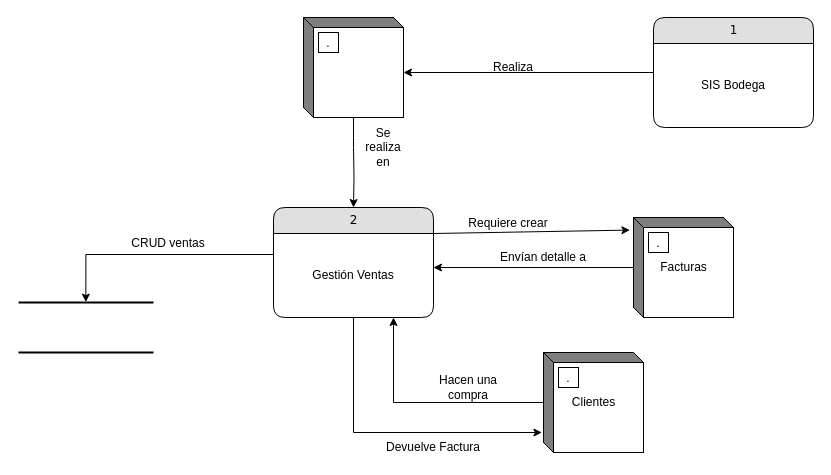
Image size: 831x475. Some labels were removed from this diagram. Here are the shapes that lost their labels. From the top down, the centre of each, then its label:
(353,67): Ventas
(85,327): Registro de Ventas
